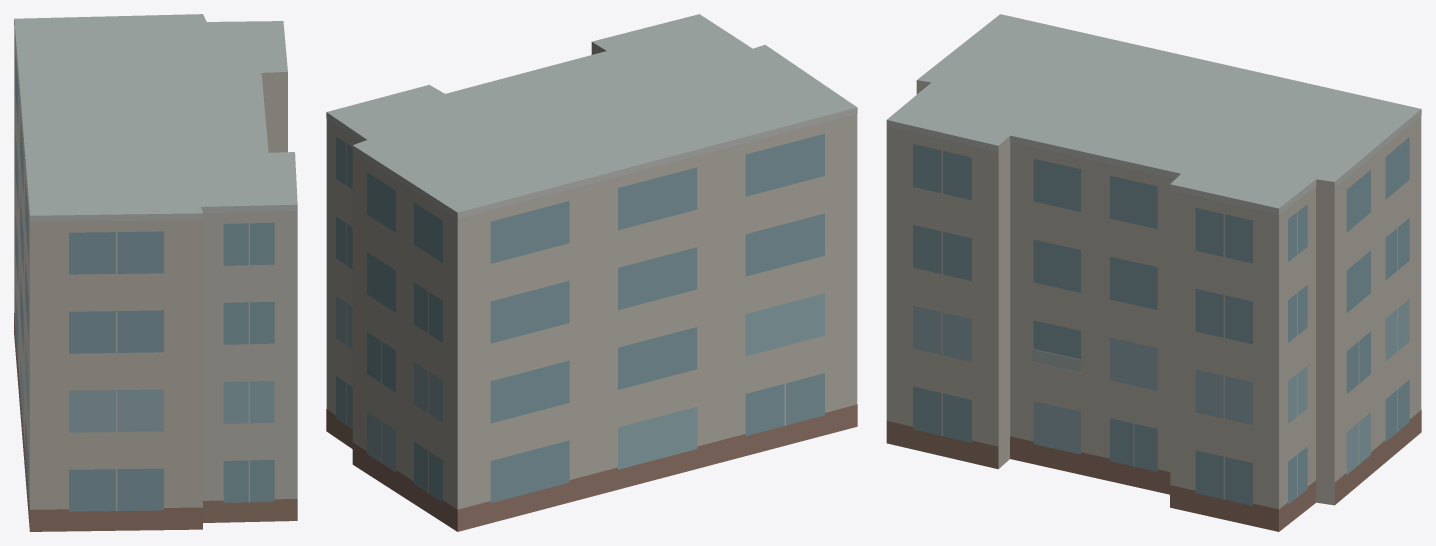
Rendered from survey-upis-32883520.glb.
The picture shows the model from 3 angles, left to right: view 1: azimuth 30°, elevation 25°; view 2: azimuth 150°, elevation 25°; view 3: azimuth 270°, elevation 25°; orthographic projection. The views are drawn at different scales.
Visible parts, largest first — view 1: survey-upis-32883520.tmp; view 2: survey-upis-32883520.tmp; view 3: survey-upis-32883520.tmp.
Boxes of the visible parts, x1,y1,x2,y2 form: survey-upis-32883520.tmp: (14, 14, 297, 531); survey-upis-32883520.tmp: (326, 14, 857, 531); survey-upis-32883520.tmp: (886, 14, 1421, 531).
Size of the model in its own units: 15.95 by 12.36 by 18.54.
